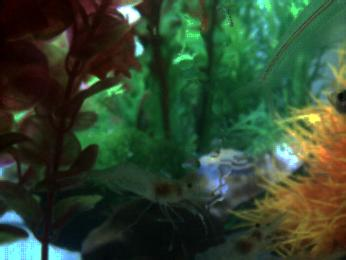glassfish: (230, 1, 346, 113)
siberian prawn: (65, 160, 212, 210), (186, 209, 292, 260)
